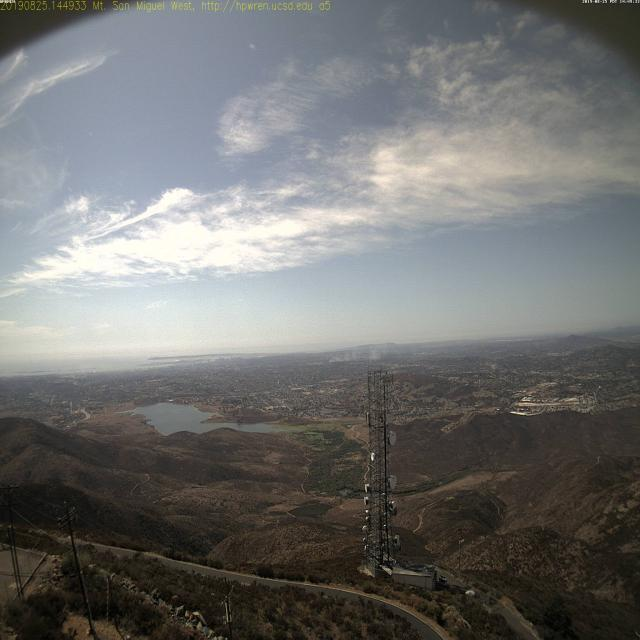smoke: (321, 348, 345, 367)
